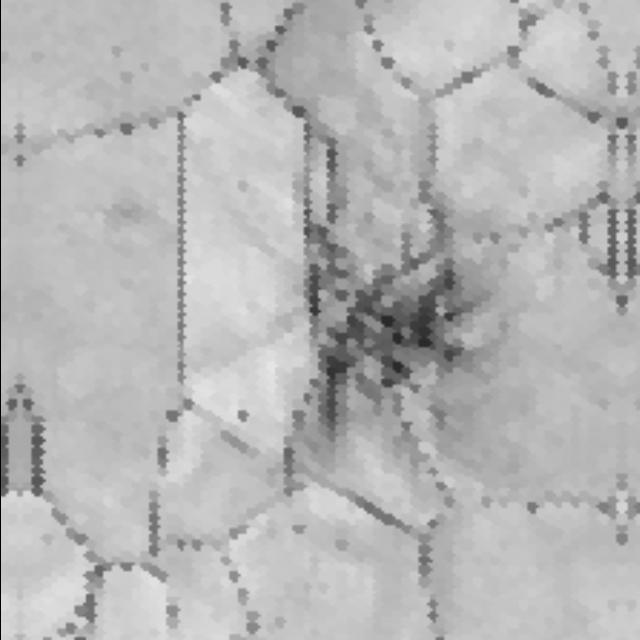good_void: (283, 235, 483, 467), (284, 517, 309, 540), (231, 403, 252, 423), (232, 179, 247, 191)
